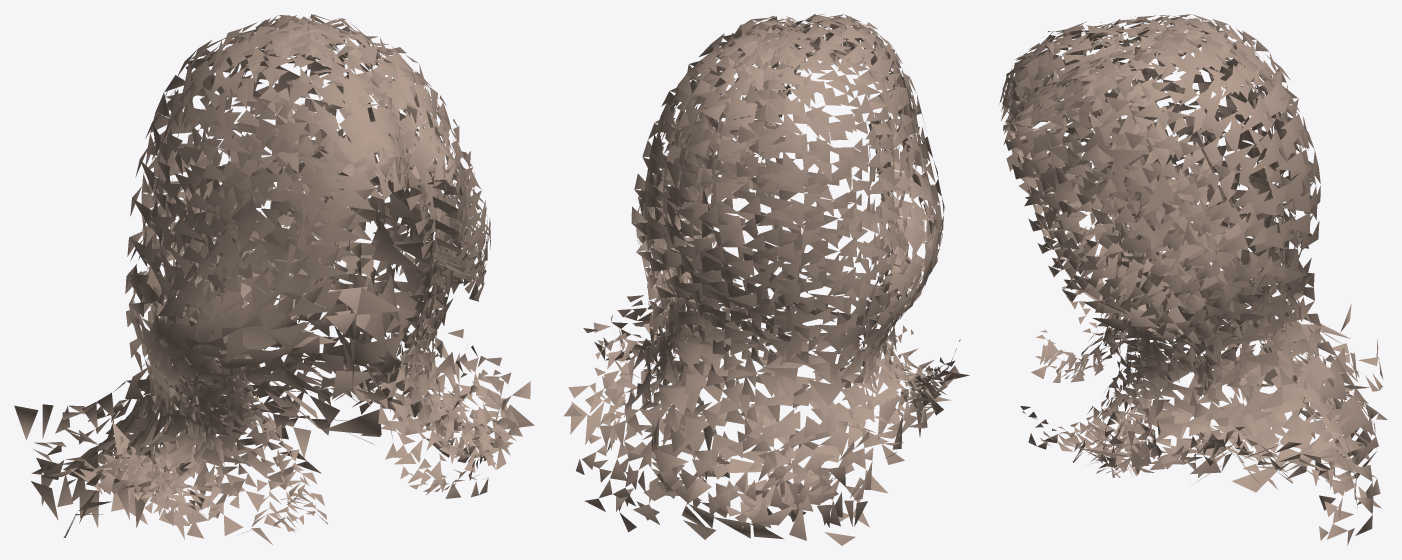
Rendered from female_hair_02_lod1.glb.
The picture shows the model from 3 angles, left to right: view 1: azimuth 30°, elevation 25°; view 2: azimuth 150°, elevation 25°; view 3: azimuth 270°, elevation 25°; orthographic projection. The views are drawn at different scales.
Parts seen in each view (by area): view 1: female-hair-02; view 2: female-hair-02; view 3: female-hair-02.
Boxes of the visible parts, <box> form: female-hair-02: <box>14,14,534,544</box>; female-hair-02: <box>564,14,969,545</box>; female-hair-02: <box>999,14,1387,545</box>.
Bounding box in the file's own units: 0.308 × 0.4005 × 0.291.
